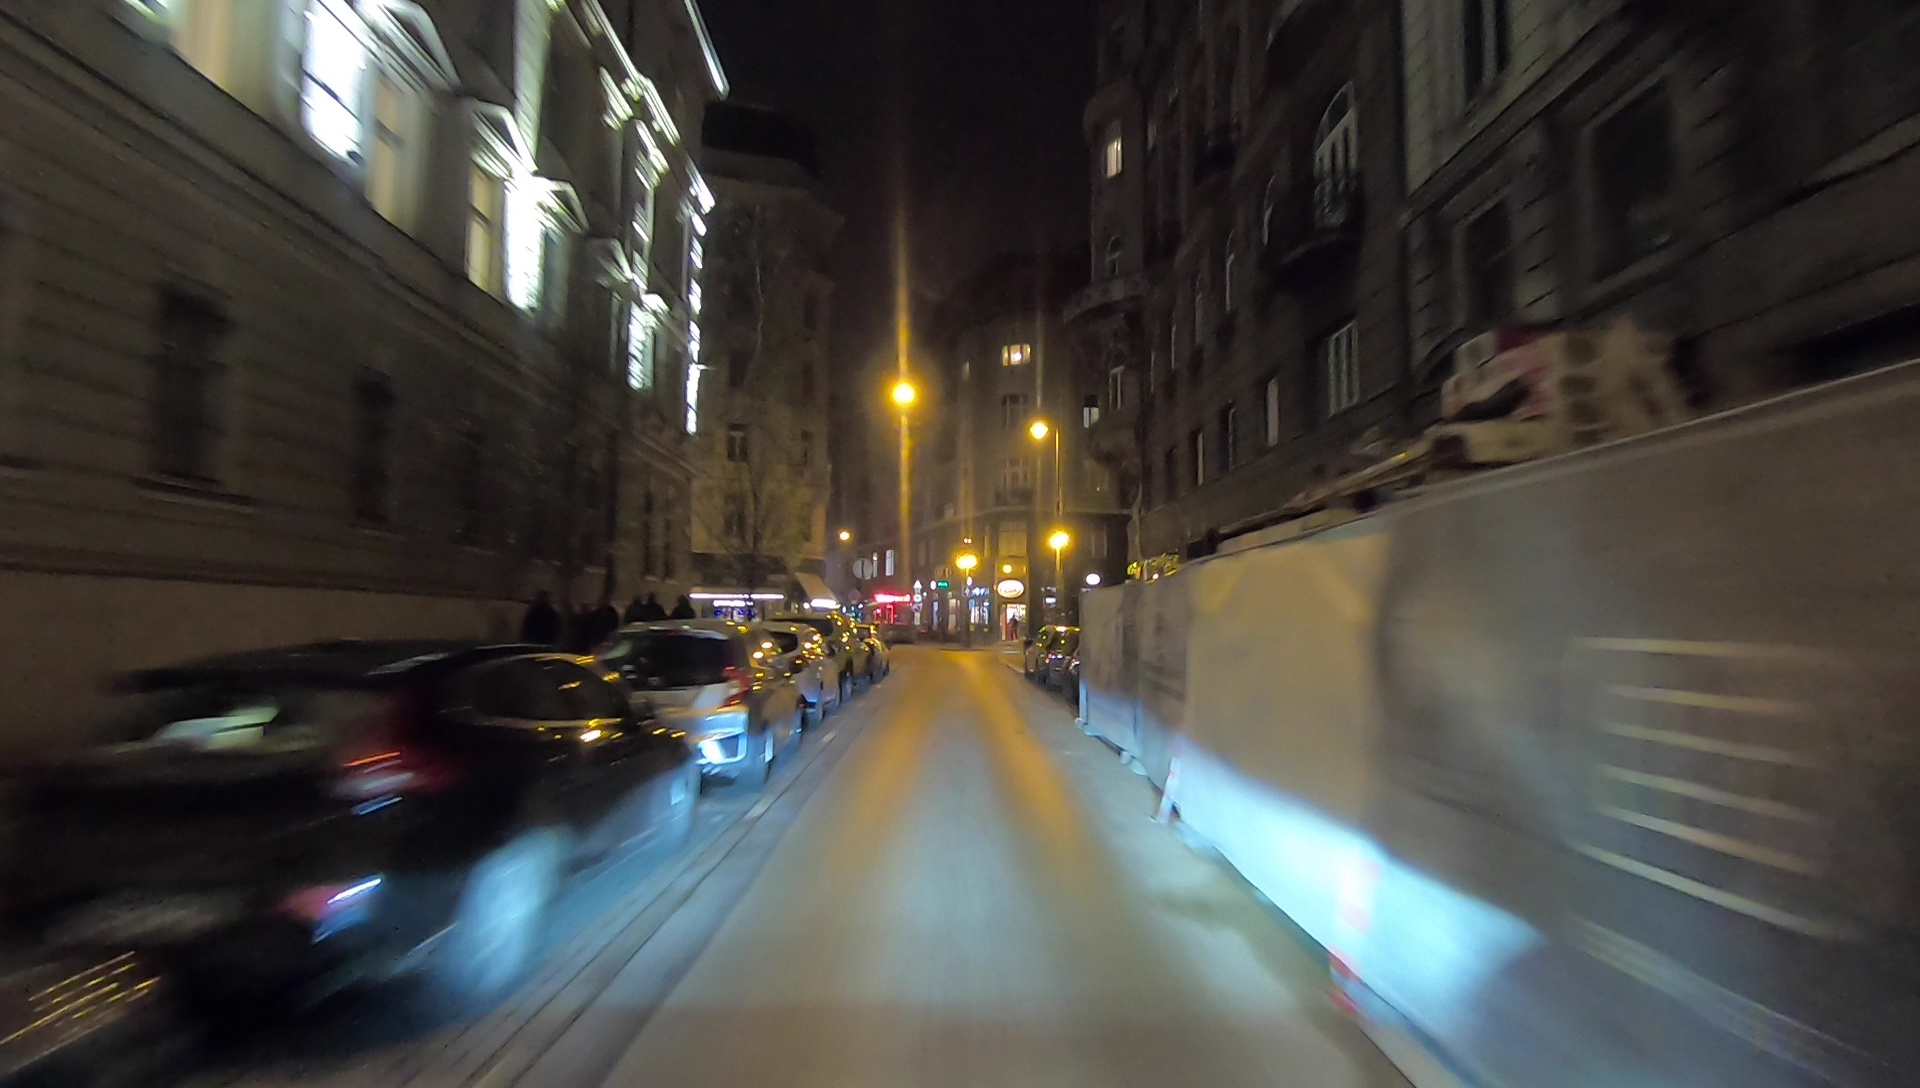person: (526, 589, 554, 665), (671, 589, 695, 658), (576, 600, 593, 667), (623, 597, 641, 650), (645, 593, 662, 649)
